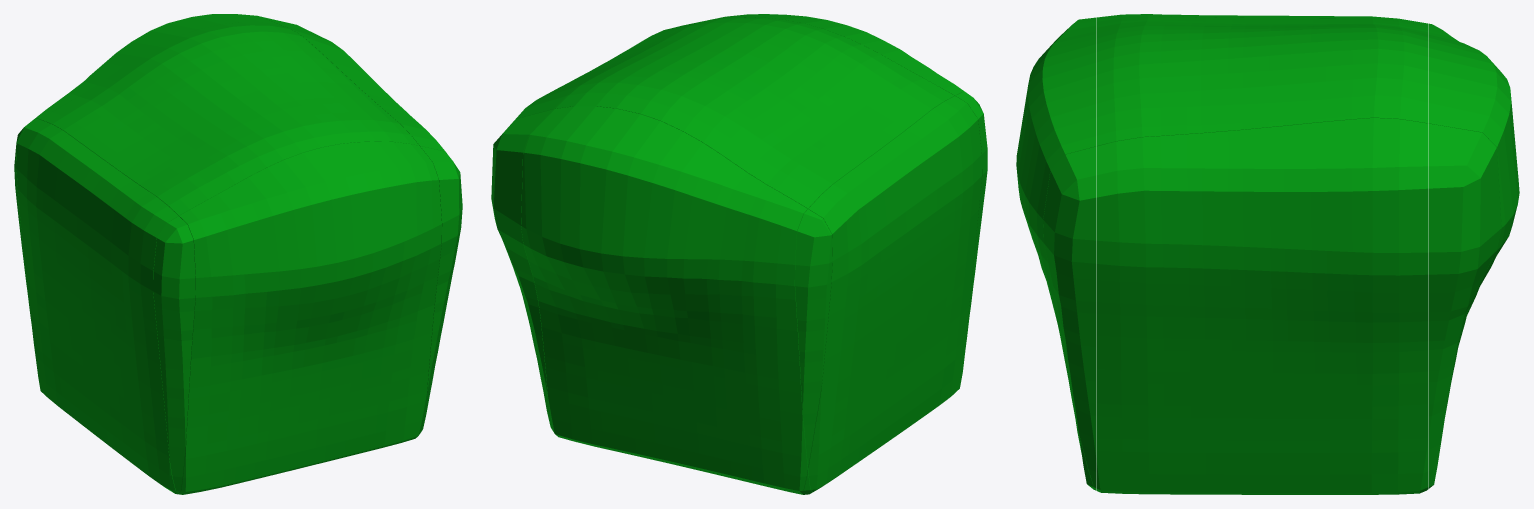
The model's file is 4by10beveledsubdivided.026.fbx.
3 views of the same model, side by side, from view 1: azimuth 30°, elevation 25°; view 2: azimuth 150°, elevation 25°; view 3: azimuth 270°, elevation 25° (orthographic). The views are drawn at different scales.
Parts seen in each view (by area): view 1: 4by10beveledsubdivided.026; view 2: 4by10beveledsubdivided.026; view 3: 4by10beveledsubdivided.026.
Part boxes in pixels (x1=…): 4by10beveledsubdivided.026: x1=14, y1=14, x2=462, y2=494; 4by10beveledsubdivided.026: x1=491, y1=14, x2=987, y2=494; 4by10beveledsubdivided.026: x1=1016, y1=14, x2=1519, y2=494.
Bounding box in the file's own units: 267 × 264 × 304.
